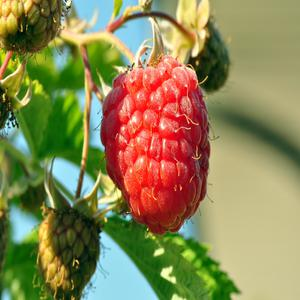raspb: (94, 54, 228, 234)
